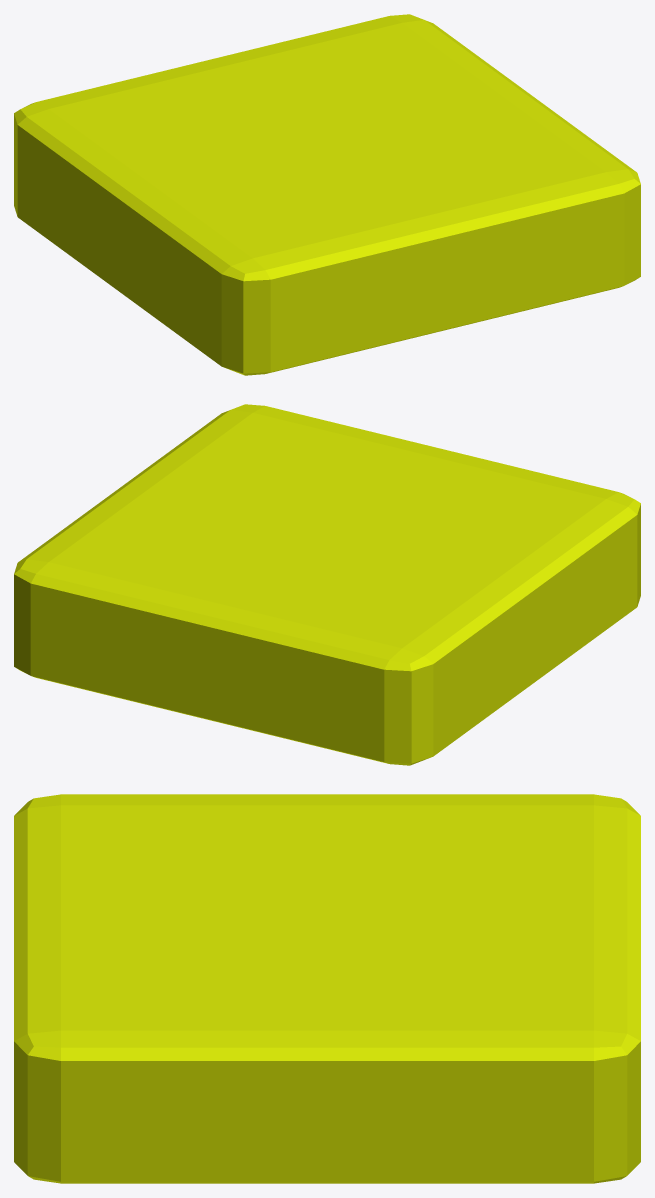
The model's file is exit.glb.
The picture shows the model from 3 angles, top to bottom: view 1: azimuth 30°, elevation 25°; view 2: azimuth 150°, elevation 25°; view 3: azimuth 270°, elevation 25°; orthographic projection. The views are drawn at different scales.
Visible parts, largest first — view 1: exit; view 2: exit; view 3: exit.
Part boxes in pixels (bbox=[...]): exit: bbox=[14, 14, 640, 375]; exit: bbox=[14, 404, 640, 765]; exit: bbox=[14, 794, 640, 1183].
Size of the model in its own units: 2 by 0.5 by 2.
